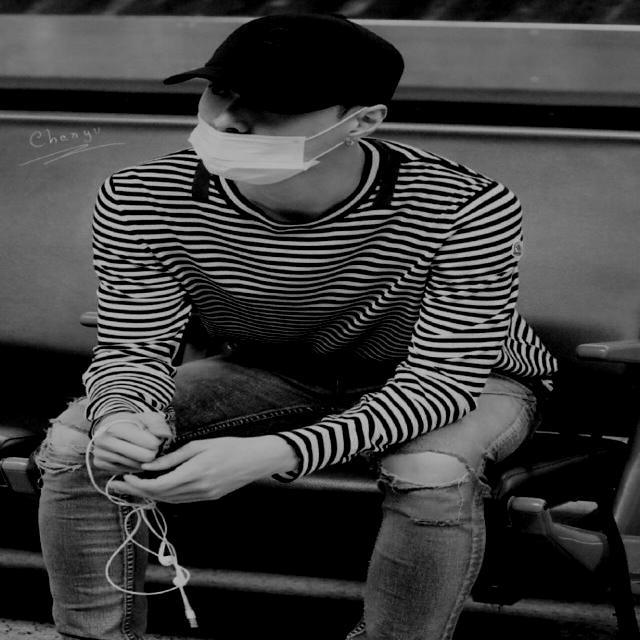real: (194, 72, 390, 184)
